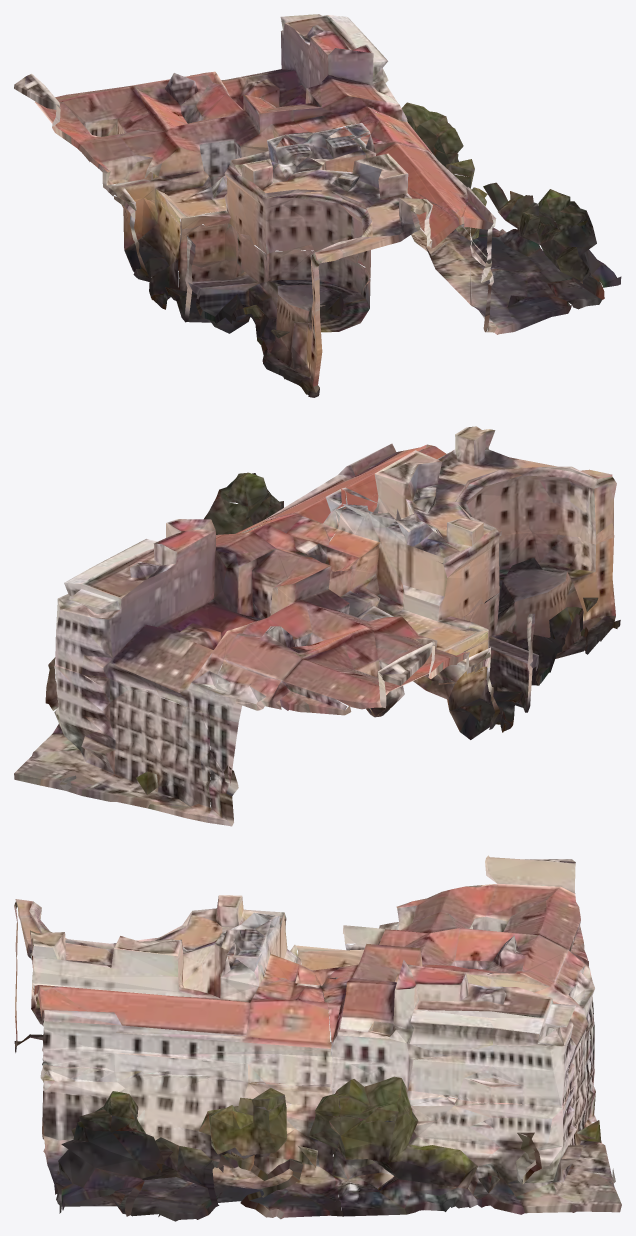
3 renders of one model, top to bottom at view 1: azimuth 30°, elevation 25°; view 2: azimuth 150°, elevation 25°; view 3: azimuth 270°, elevation 25°, orthographic. The views are drawn at different scales.
Visible parts, largest first — view 1: Mesh_0; view 2: Mesh_0; view 3: Mesh_0.
Boxes of the visible parts, x1,y1,x2,y2 form: Mesh_0: (14,14,621,397); Mesh_0: (14,426,620,826); Mesh_0: (14,855,621,1221).
Size of the model in its own units: 67.46 by 32.37 by 82.64.
Materials: 1 (1 with a texture image).
